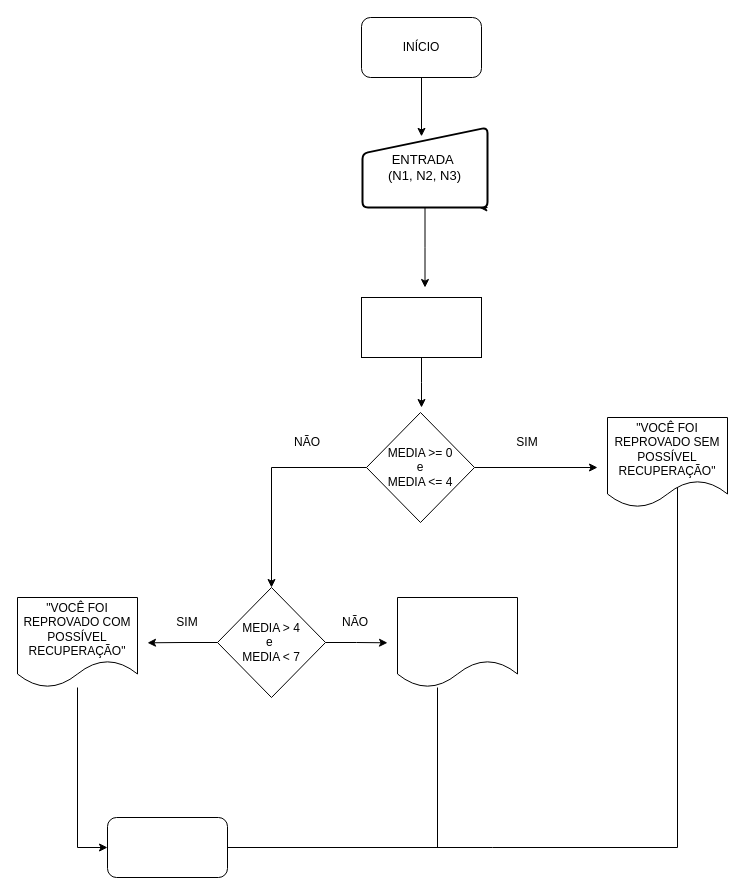
This 745x895 diagram has some shape labels left out. Here are the shapes that lost their labels. From the top down, the box of each, then its label:
(360, 296, 482, 358): MEDIA = (N1 + N2 + N3) / 3
(396, 596, 518, 688): "VOCÊ FOI APROVADO"
(106, 816, 228, 878): FIM
